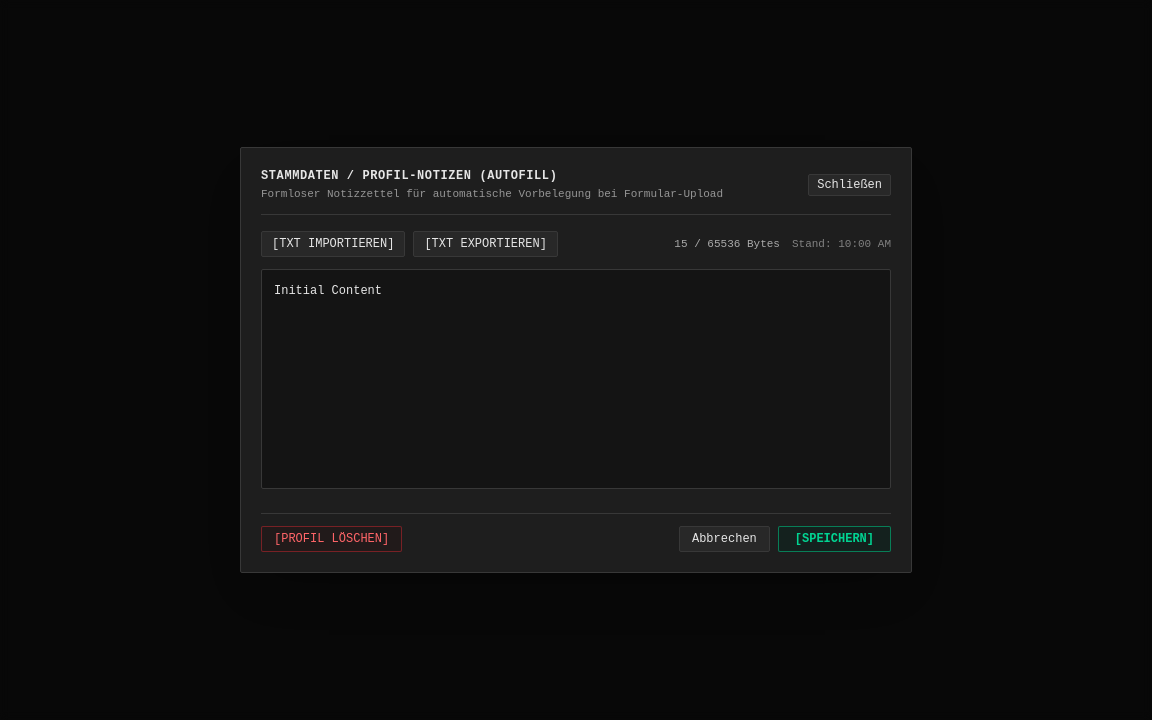
Test: UserProfileModal › saves updated profile and notifies parent
Replace the text in the text box named "stammdaten notizzettel" with "Updated Content Profile" at x=576, y=379, box x1=261 y1=269 x2=891 y2=489
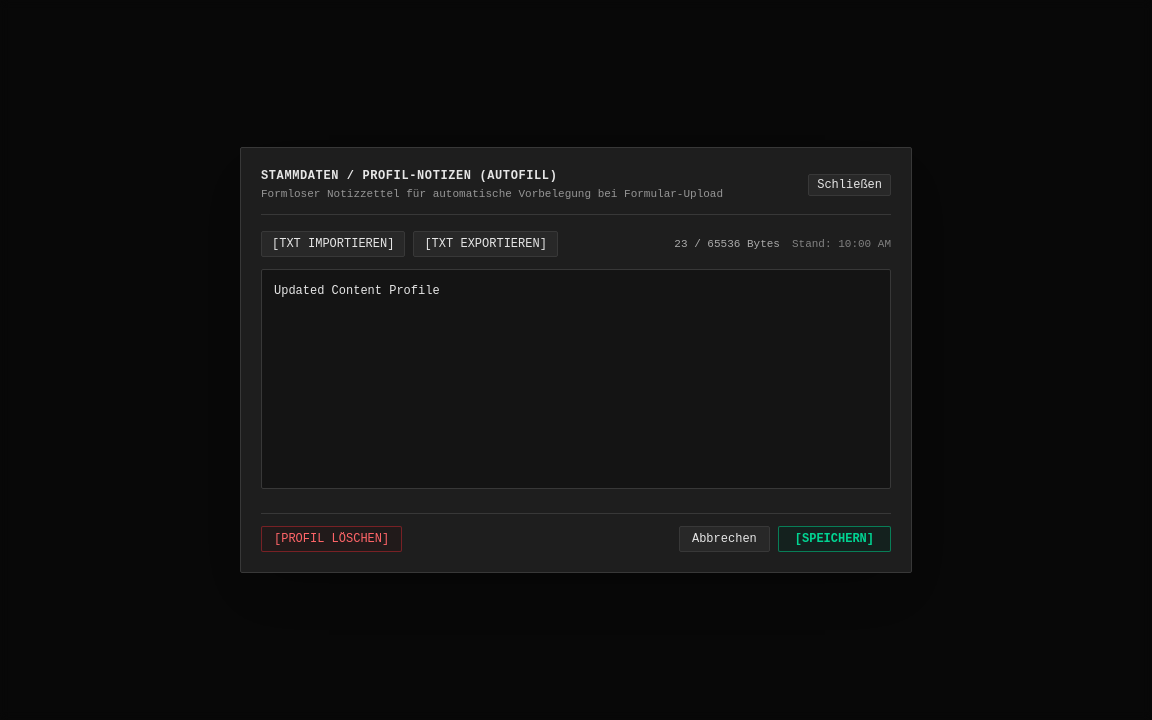
Click the button "[SPEICHERN]" at x=834, y=539, box x1=778 y1=526 x2=891 y2=552
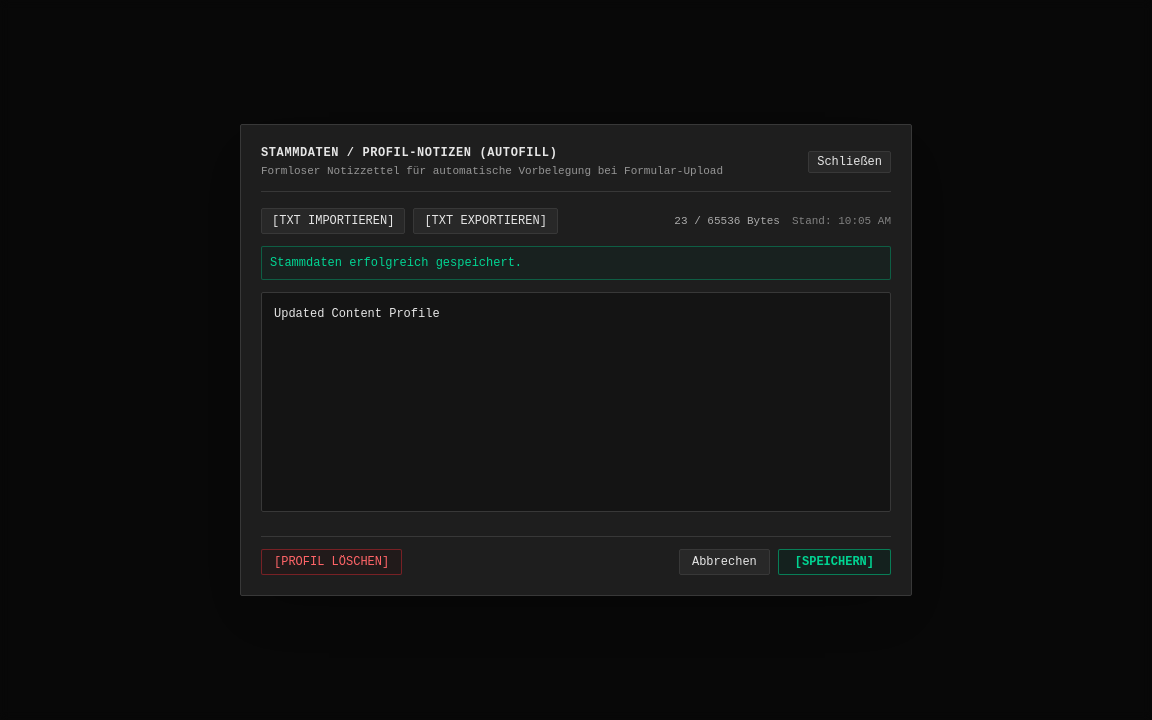
expect the text "Stammdaten erfolgreich gespeichert." is shown: met, box x1=261 y1=246 x2=891 y2=280
